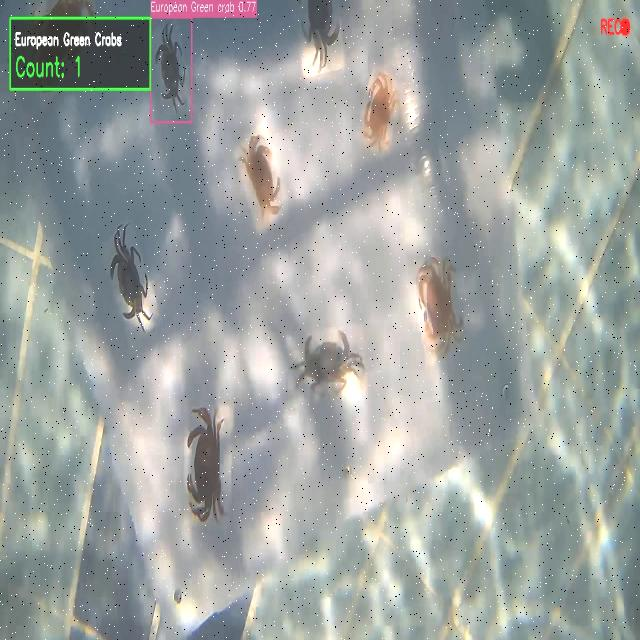European_Green_Crab: (100, 218, 160, 342), (290, 322, 366, 409), (146, 18, 197, 133), (295, 0, 348, 85)
